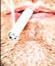Cigarette: (8, 9, 32, 41)
